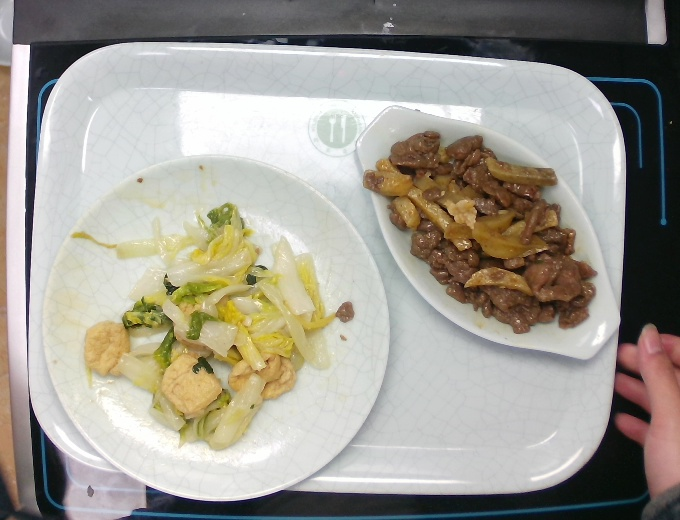JYsf-Da_Yuan_Pan: (35, 147, 394, 506)
JYsf-Yu_Pan: (352, 106, 624, 362)
